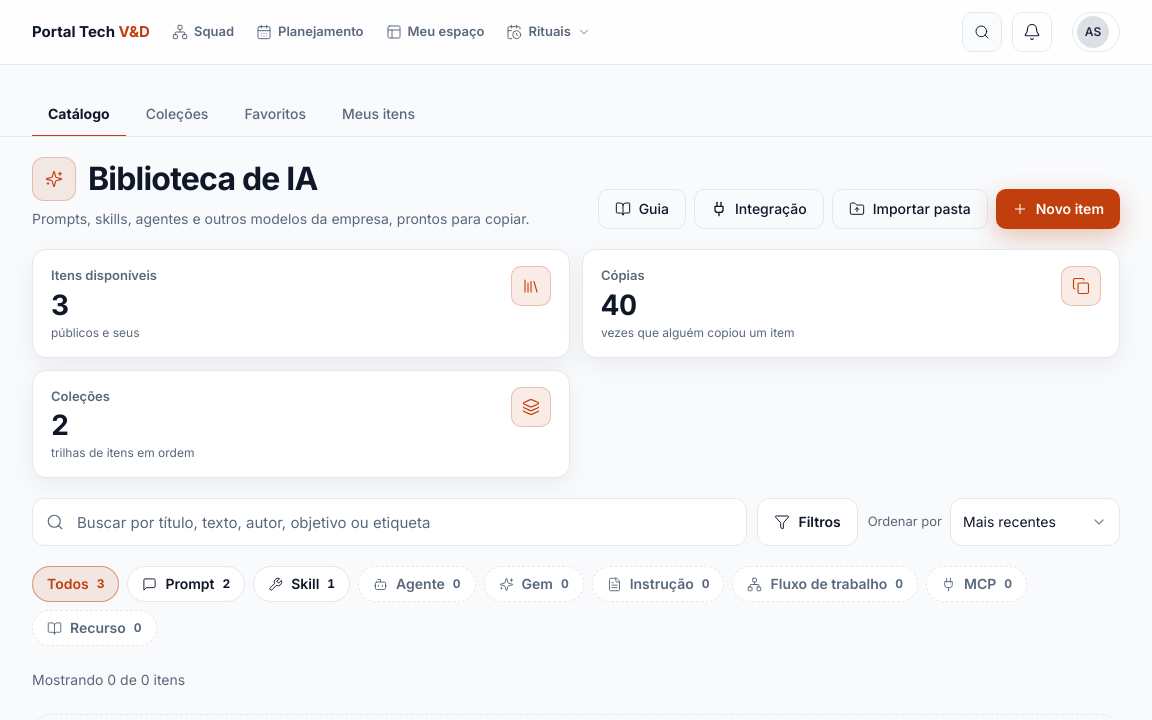
Catálogo › estados vazios: biblioteca vazia e nenhum resultado
Type "zzz" into the search field named "Buscar na biblioteca".
click(390, 522); type("zzz")  # box [32,498,748,546]
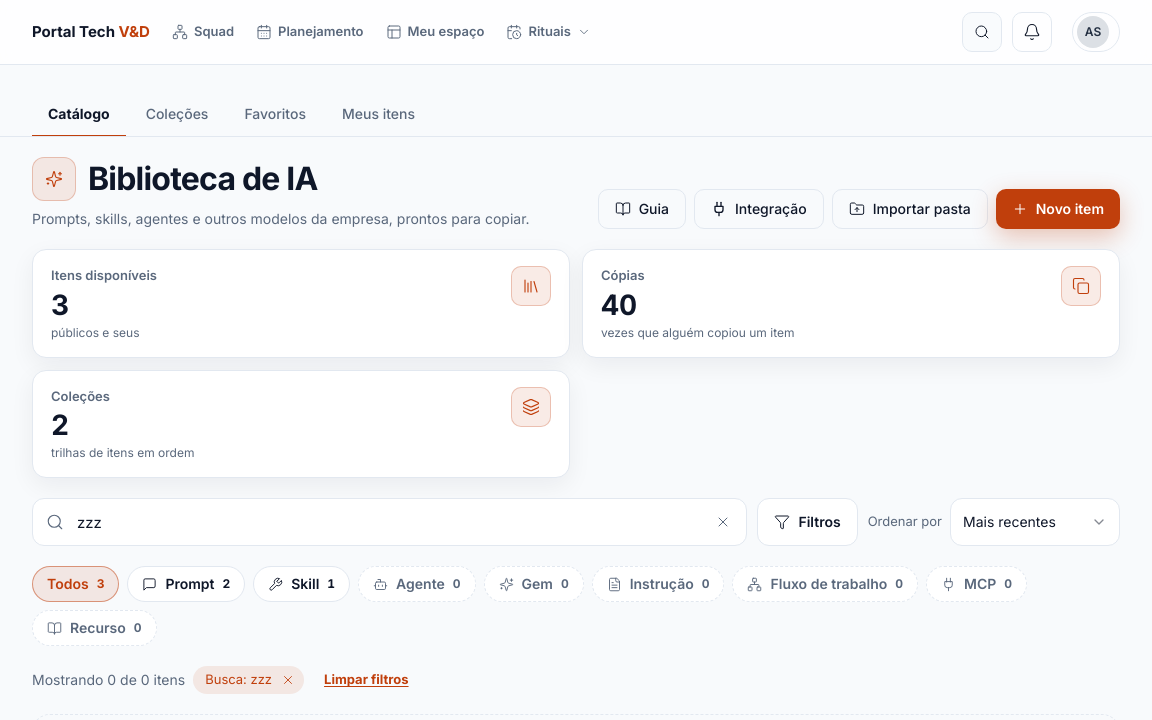
Now the button "Limpar filtros" is shown, box [312,666,420,694]
